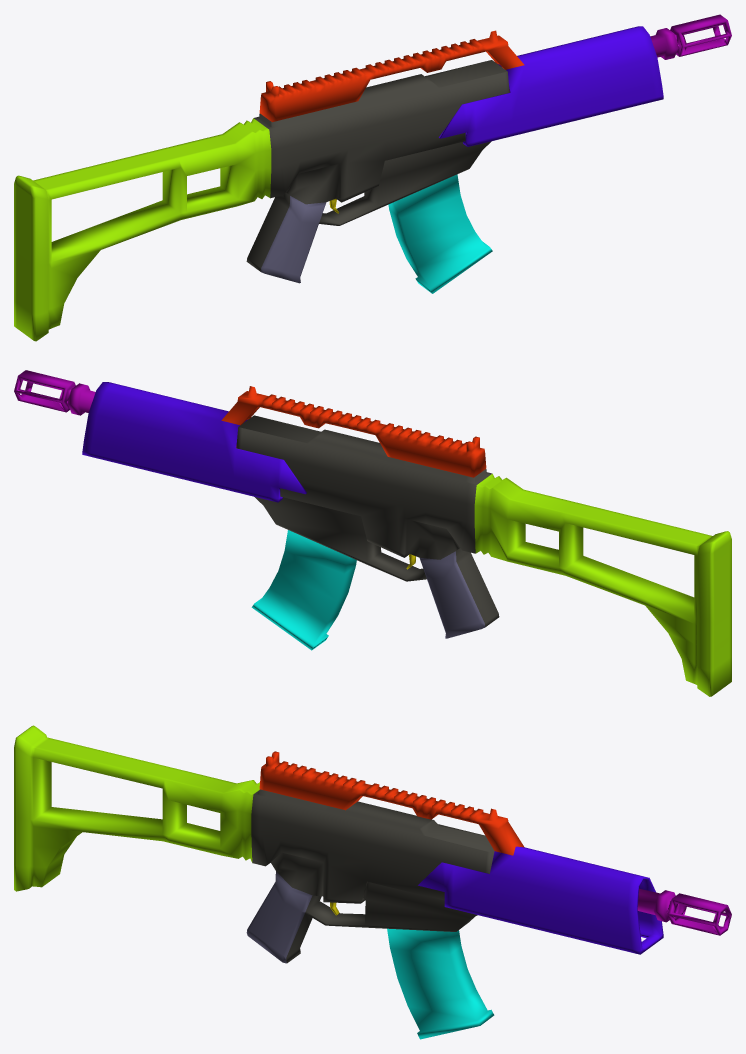
Rendered from Rifle.fbx.
3 renders of one model, top to bottom at view 1: azimuth 30°, elevation 25°; view 2: azimuth 150°, elevation 25°; view 3: azimuth 330°, elevation 25°, orthographic.
Visible parts, largest first — view 1: Gun_UVd:ZBrushPolyMesh3D; view 2: Gun_UVd:ZBrushPolyMesh3D; view 3: Gun_UVd:ZBrushPolyMesh3D.
Part boxes in pixels (x1,y1,x2,y2): Gun_UVd:ZBrushPolyMesh3D: [14, 14, 731, 341]; Gun_UVd:ZBrushPolyMesh3D: [14, 370, 731, 696]; Gun_UVd:ZBrushPolyMesh3D: [14, 725, 731, 1039].
Size of the model in its own units: 13.49 by 4.46 by 0.7698.
